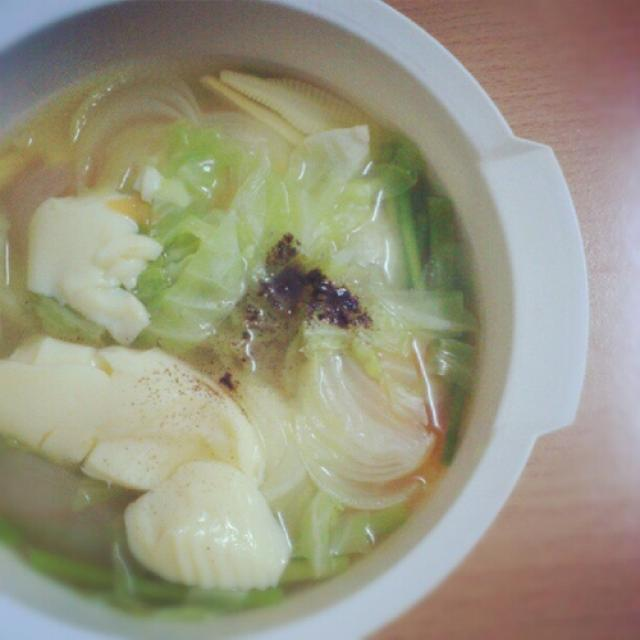汤锅炖物: (5, 50, 485, 608)
